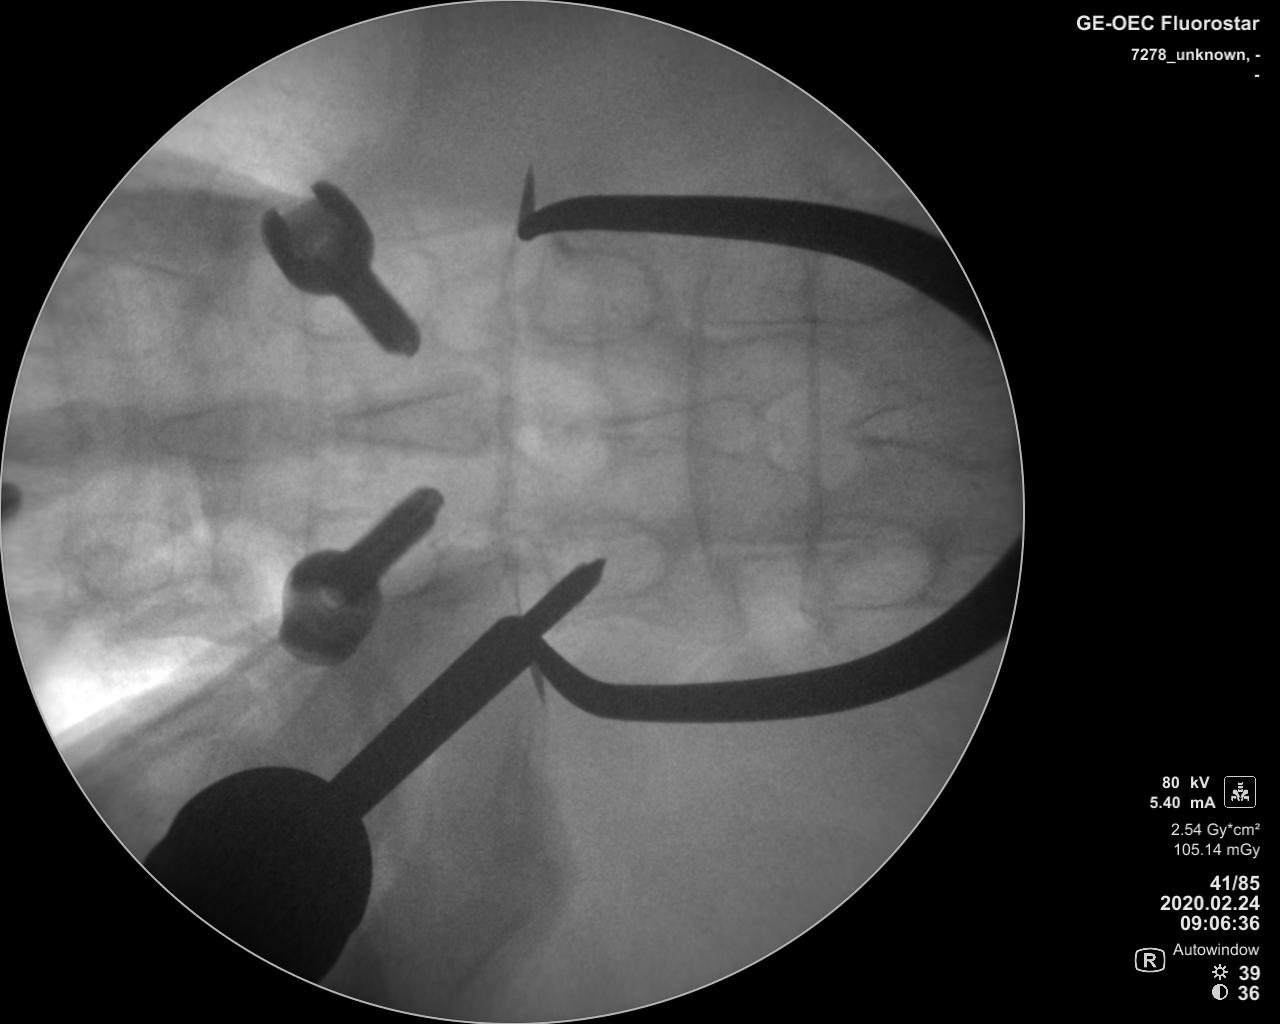eyes: (525, 246, 659, 346), (534, 507, 676, 601), (303, 240, 438, 339), (74, 262, 209, 356), (813, 513, 936, 611), (61, 514, 199, 594), (312, 511, 441, 595)
line: (486, 232, 523, 605), (682, 248, 720, 592), (792, 263, 825, 569), (289, 295, 323, 543)
nose: (321, 383, 509, 460), (591, 392, 768, 466), (848, 390, 1004, 467), (140, 395, 309, 465), (7, 401, 138, 471)
